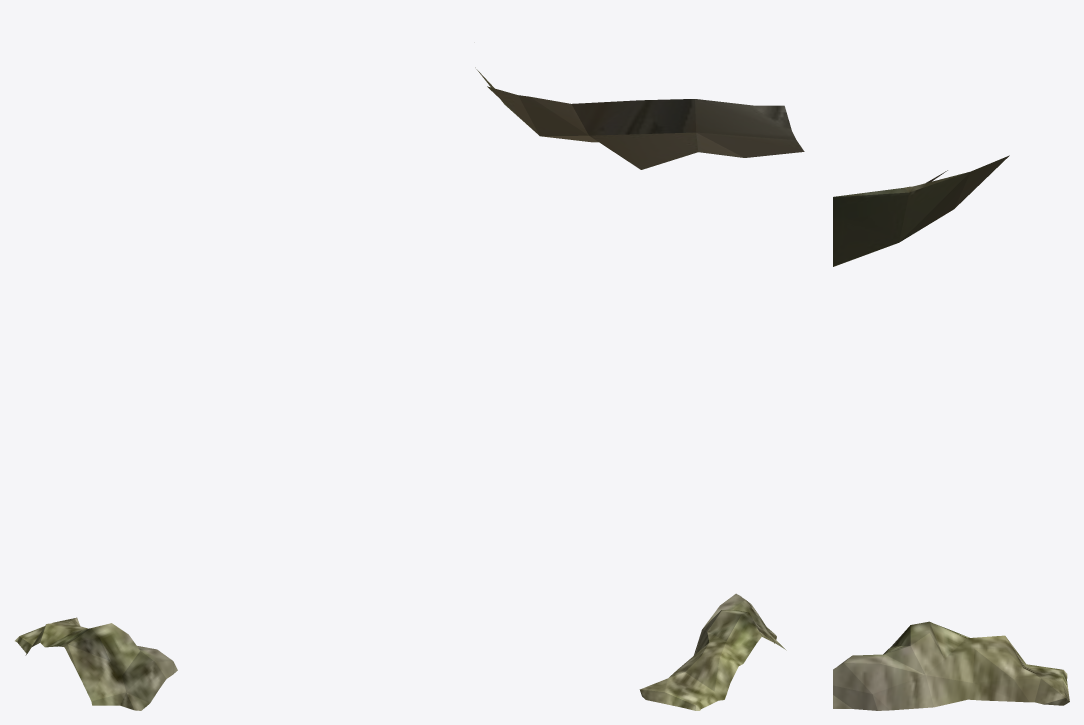
3 renders of one model, left to right at view 1: azimuth 30°, elevation 25°; view 2: azimuth 150°, elevation 25°; view 3: azimuth 270°, elevation 25°, orthographic. The views are drawn at different scales.
Bounding box in the file's own units: 1.77 × 2.95 × 0.9686.
1 material, 1 textured.
